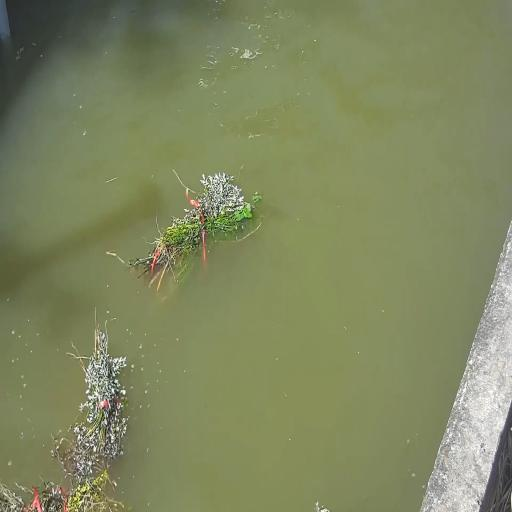twig: (121, 170, 259, 289), (66, 313, 129, 471)
